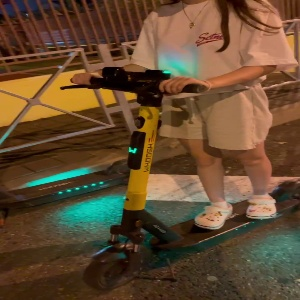human on a scooter: (59, 1, 300, 293)
